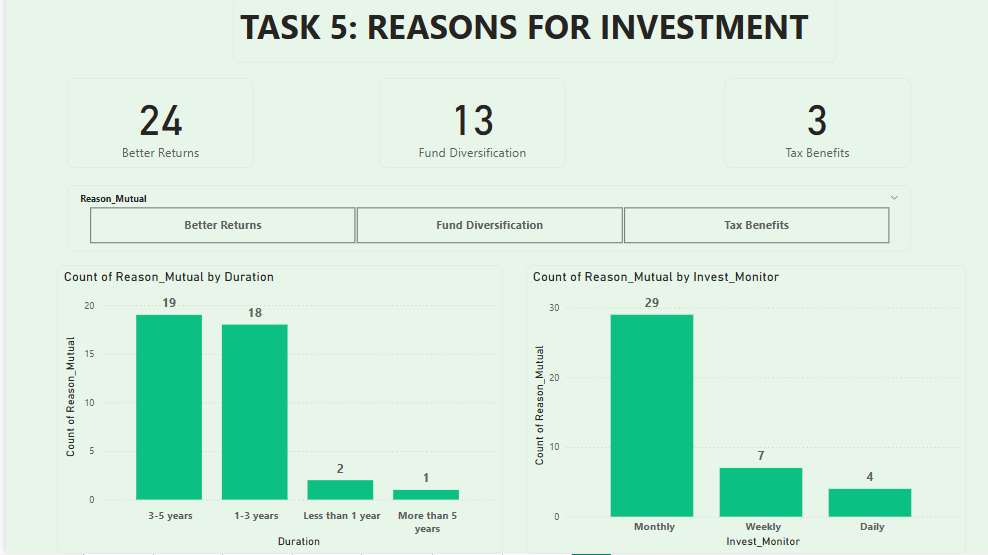

Layout of this report page (visuals, bound fields, positions):
{"tool":"powerbi","page":{"name":"Task5","canvas":[1280,720],"ordinal":4},"visuals":[{"type":"textbox","box":[292.5,0,779.1,85.6],"z":0},{"type":"card","fields":{"Values":["Data_set 2.Better Returns"]},"box":[78.5,105.6,241.2,115.6],"z":1000},{"type":"card","fields":{"Values":["Data_set 2.Tax Benefits"]},"box":[926.1,105.6,241.2,115.6],"z":2000},{"type":"card","fields":{"Values":["Data_set 2.Fund Diversification"]},"box":[480.9,105.6,241.2,115.6],"z":3000},{"type":"slicer","fields":{"Values":["Data_set 2.Reason_Mutual"]},"box":[78.5,244,1088.8,85.6],"z":4000},{"type":"clusteredColumnChart","fields":{"Category":["Data_set 2.Duration"],"Y":["CountNonNull(Data_set 2.Reason_Mutual)"]},"box":[65.2,347.2,575.4,372.8],"z":5000},{"type":"clusteredColumnChart","fields":{"Y":["CountNonNull(Data_set 2.Reason_Mutual)"],"Category":["Data_set 2.Invest_Monitor"]},"box":[670.4,347.2,568.3,372.8],"z":6000}]}

Visuals, with their boxes in screenshot pixels (x1, y1, x2, y2), scaled from the page's 1280x720 canvas onto the 988x555 screenshot:
textbox: 226, 0, 827, 66
card - Data_set 2.Better Returns: 61, 81, 247, 171
card - Data_set 2.Tax Benefits: 715, 81, 901, 171
card - Data_set 2.Fund Diversification: 371, 81, 557, 171
slicer - Data_set 2.Reason_Mutual: 61, 188, 901, 254
clusteredColumnChart - Data_set 2.Duration x CountNonNull(Data_set 2.Reason_Mutual): 50, 268, 494, 554
clusteredColumnChart - CountNonNull(Data_set 2.Reason_Mutual) x Data_set 2.Invest_Monitor: 517, 268, 956, 554
